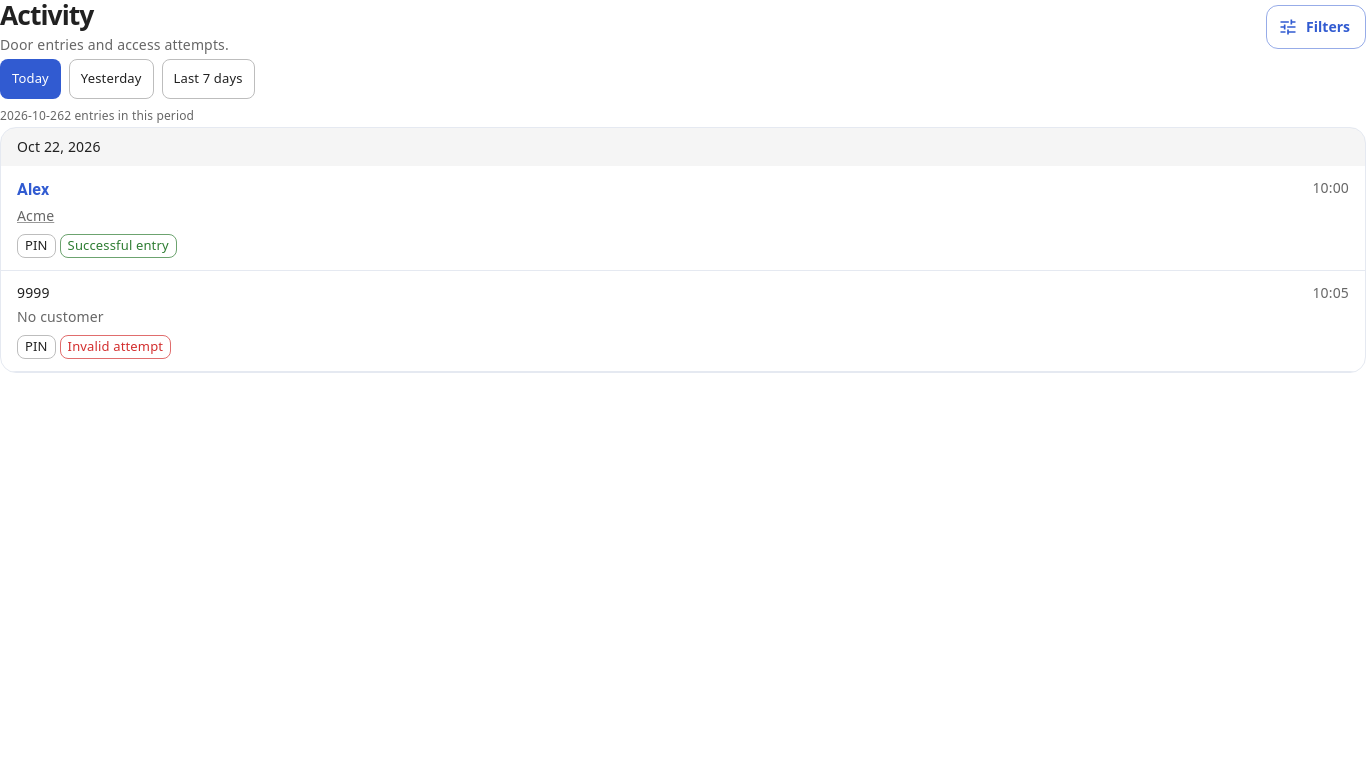
Test: log workflows › filters denied attempts without fetching again or losing the customer filter
Click the button "Filters". click: [1316, 27]
box: top-left (1266, 5), bottom-right (1365, 49)
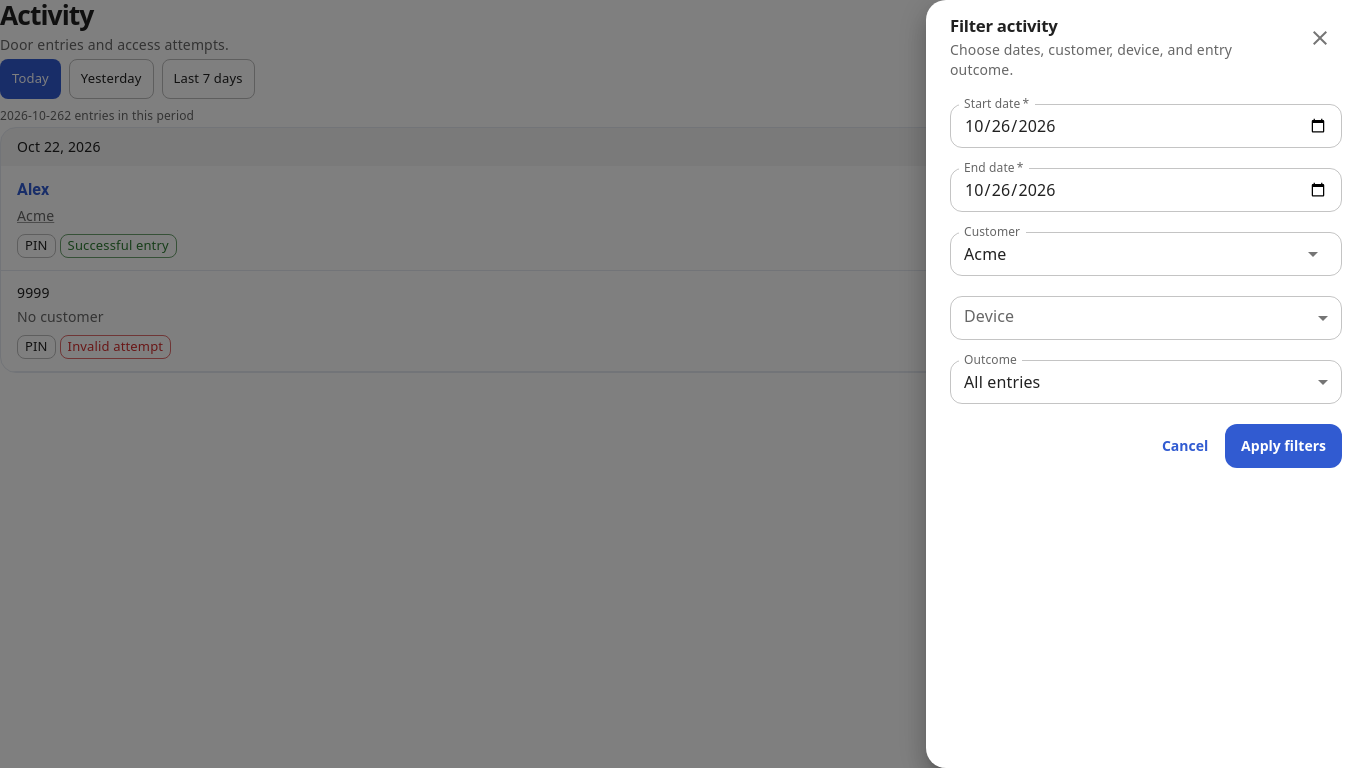
Press the mouse on the dropdown labelled "All entries" at [1002, 382], box top-left (964, 371), bottom-right (1040, 393)
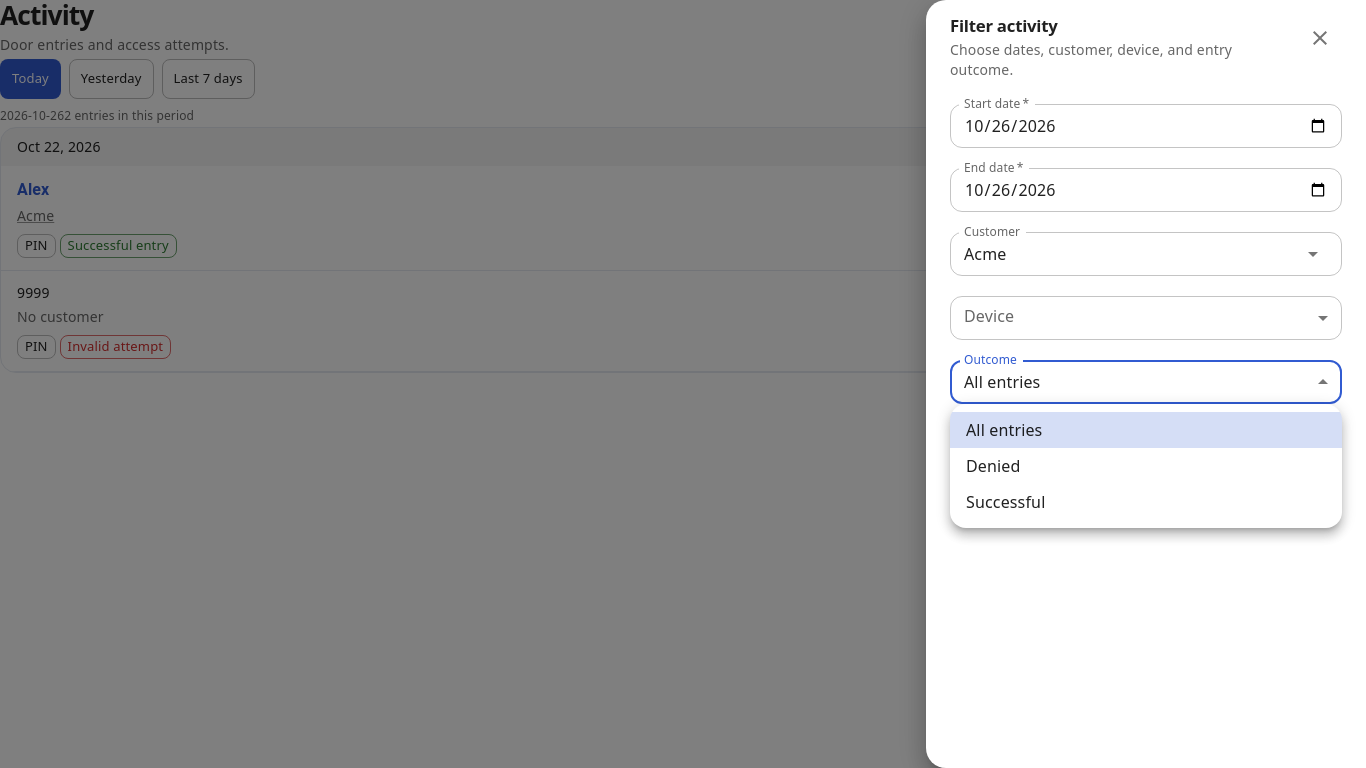
Click the option "Denied". click: [993, 466]
box: top-left (966, 455), bottom-right (1020, 477)
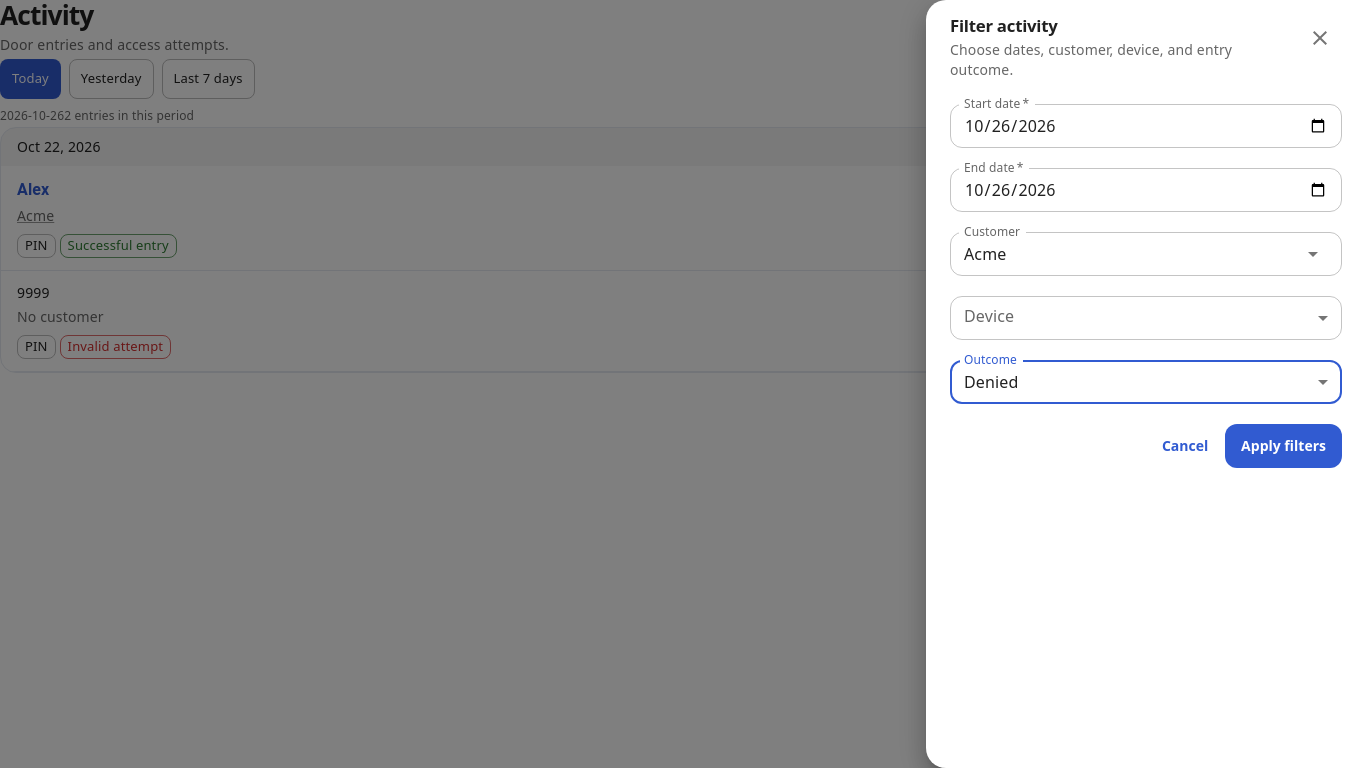
Click the button "Apply filters". click: [1284, 446]
box: top-left (1225, 424), bottom-right (1342, 468)
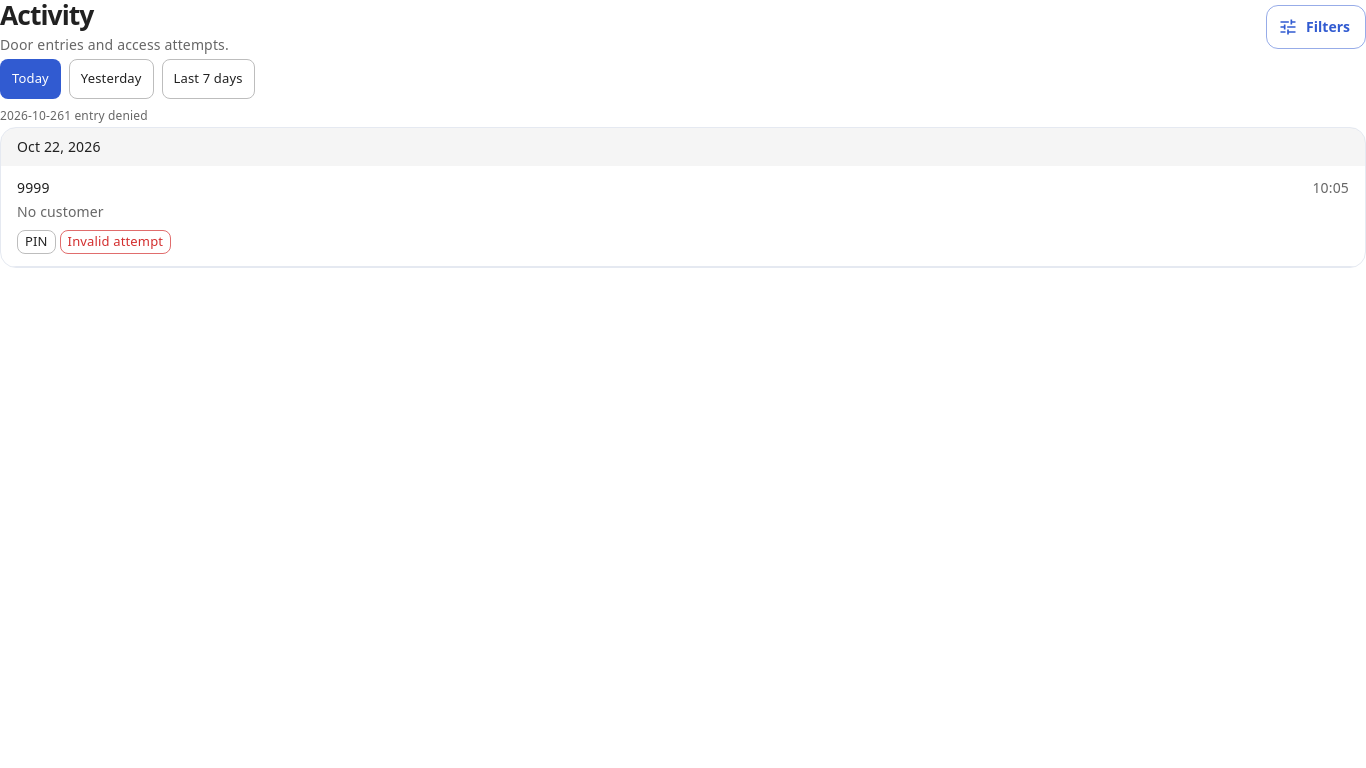
Expected: the text "Invalid attempt" is shown, top-left (61, 232), bottom-right (170, 252)
Expected: the text "Successful entry" is gone
